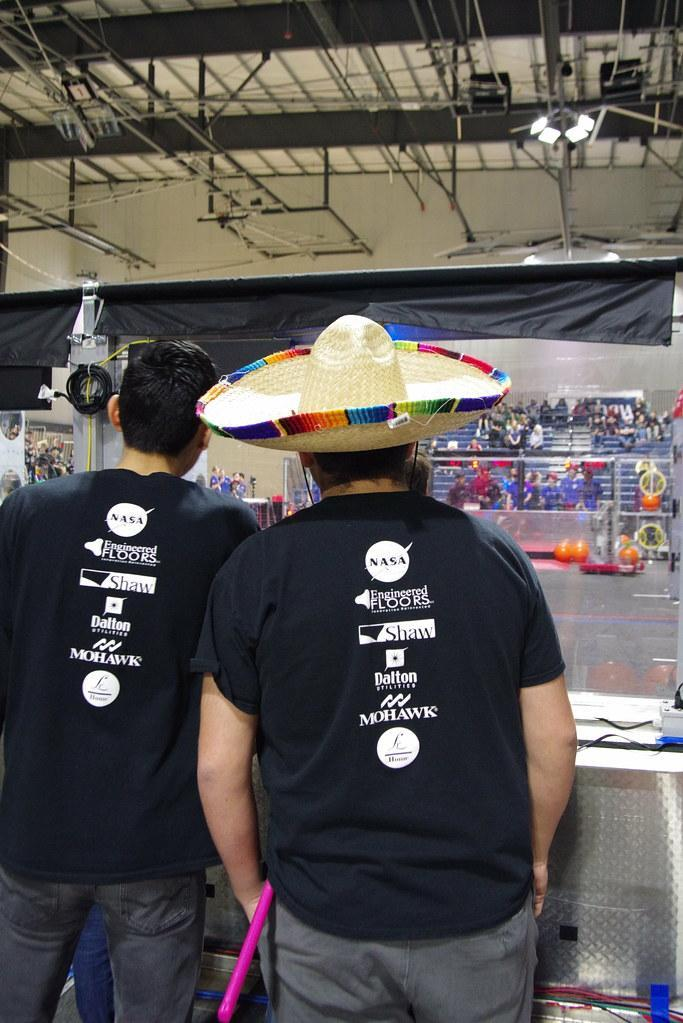robot: (578, 504, 646, 582)
